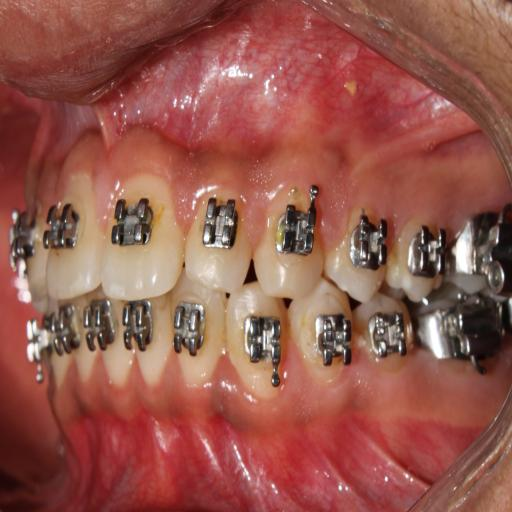correct_brace: (325, 213, 390, 300), (277, 185, 320, 268), (111, 194, 157, 253), (200, 193, 240, 259), (368, 309, 408, 359)
incorrect_brace: (185, 183, 250, 292), (350, 217, 388, 275)
